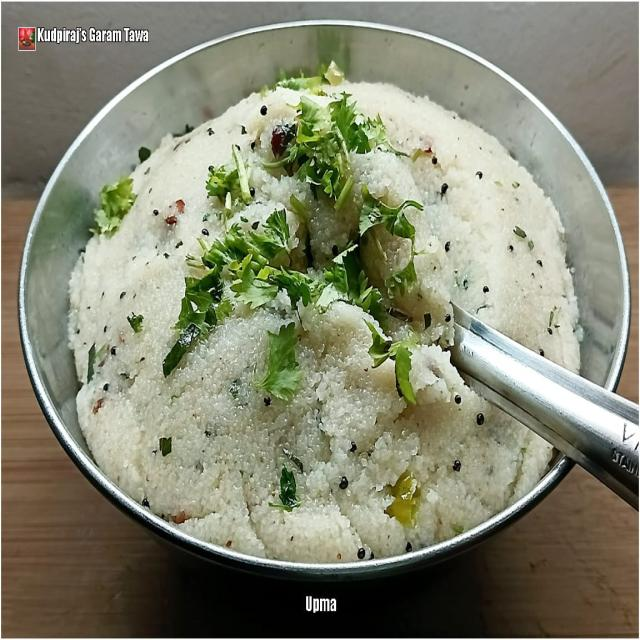upma: (57, 49, 588, 572)
